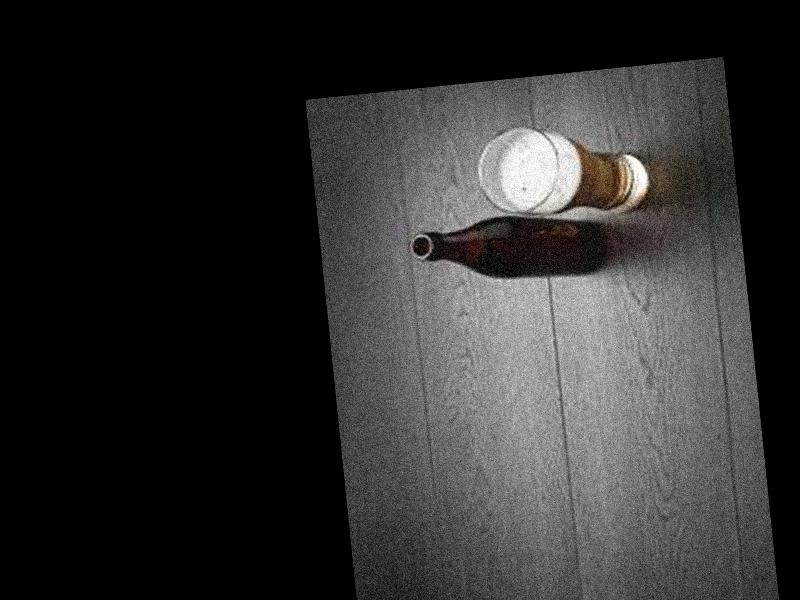Beer: (406, 204, 614, 293)
